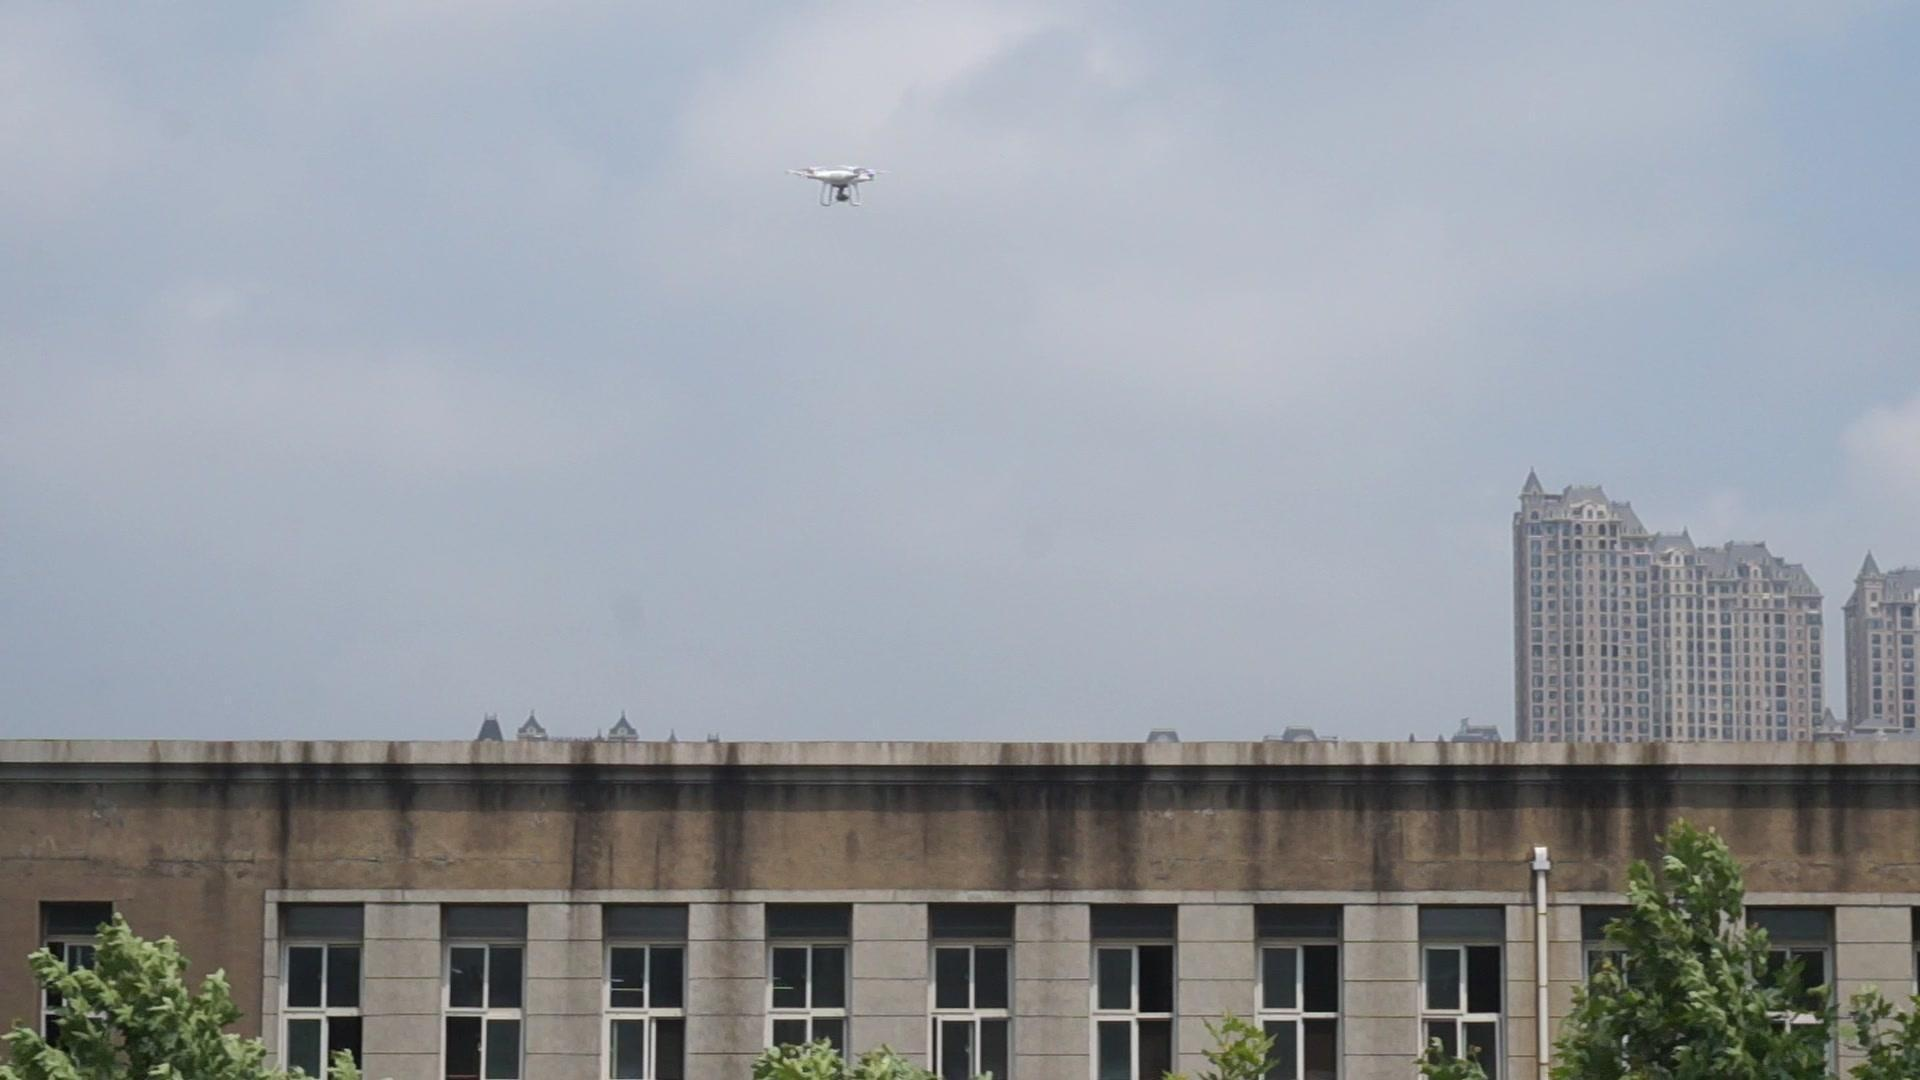UAV: (785, 166, 889, 207)
